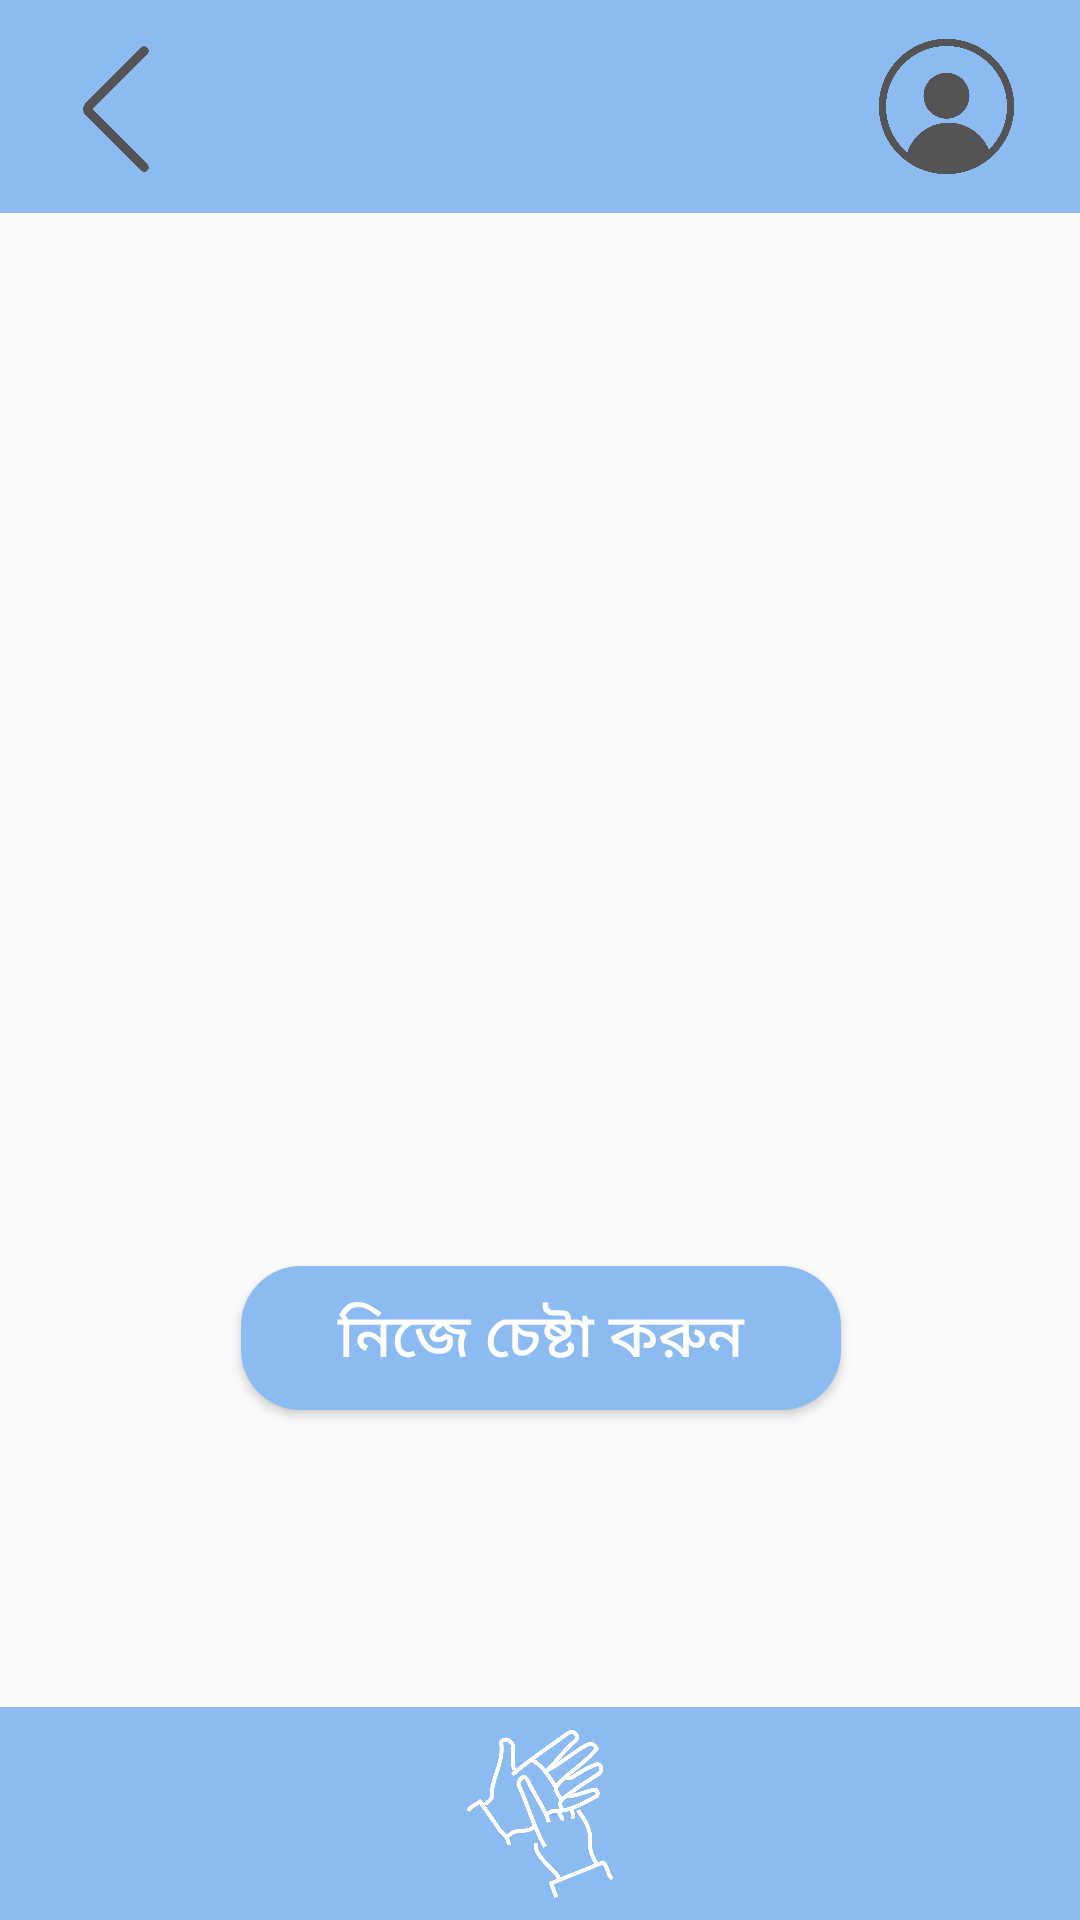

Icon click points for this 1080 × 1920 phone screenshot, format point (x, y):
back: point (116, 109)
profile: point (946, 106)
